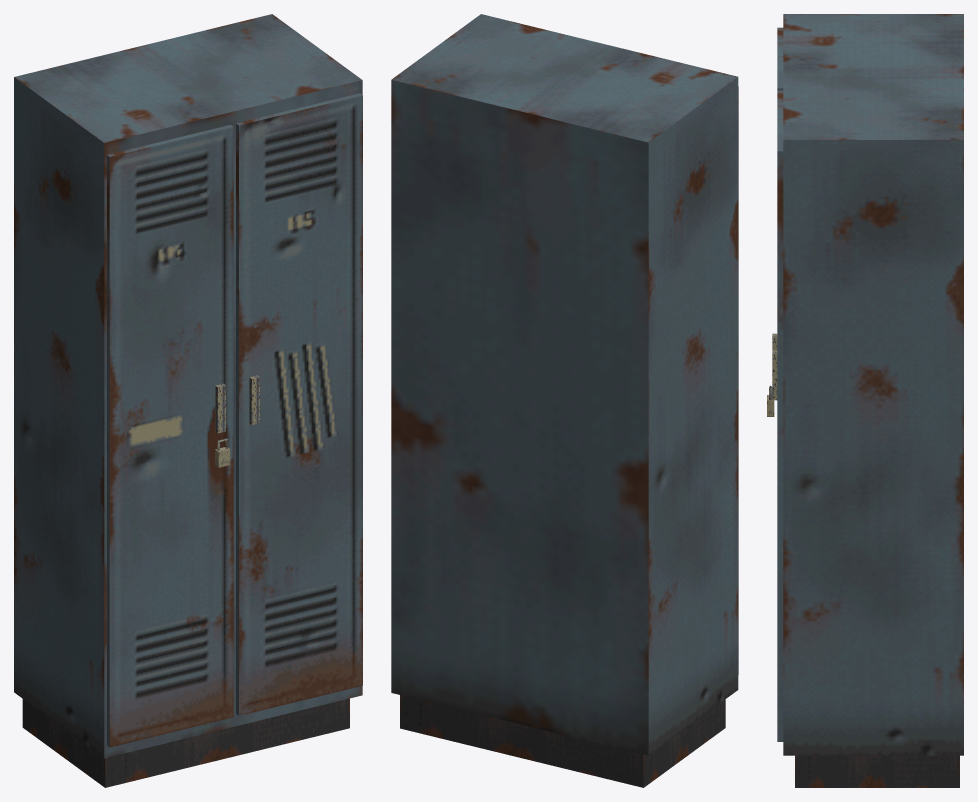
The model's file is locker_metal.obj.
3 views of the same model, side by side, from view 1: azimuth 30°, elevation 25°; view 2: azimuth 150°, elevation 25°; view 3: azimuth 270°, elevation 25° (orthographic).
Parts seen in each view (by area): view 1: locker_metal; view 2: locker_metal; view 3: locker_metal.
Part boxes in pixels (bbox=[...]): locker_metal: bbox=[14, 14, 362, 787]; locker_metal: bbox=[391, 14, 738, 787]; locker_metal: bbox=[767, 14, 963, 787].
Bounding box in the file's own units: 0.76 × 1.83 × 0.501.
1 material, 1 textured.
